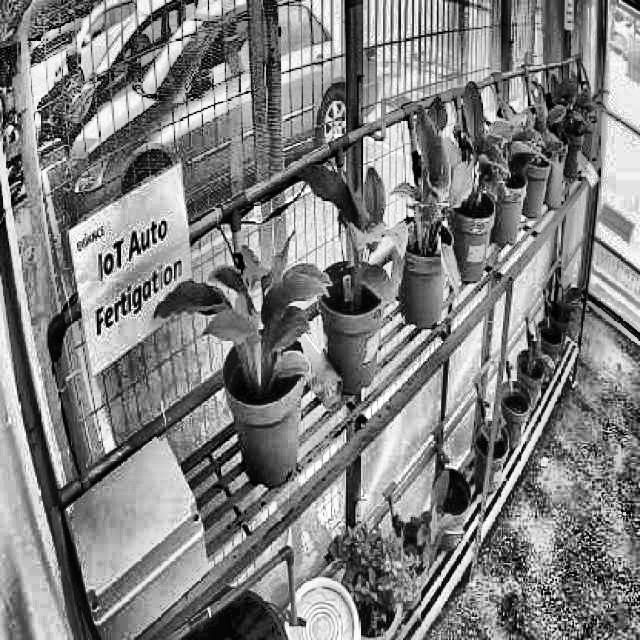plants: (153, 226, 332, 397), (302, 164, 410, 296), (394, 94, 463, 297), (448, 85, 516, 213)
